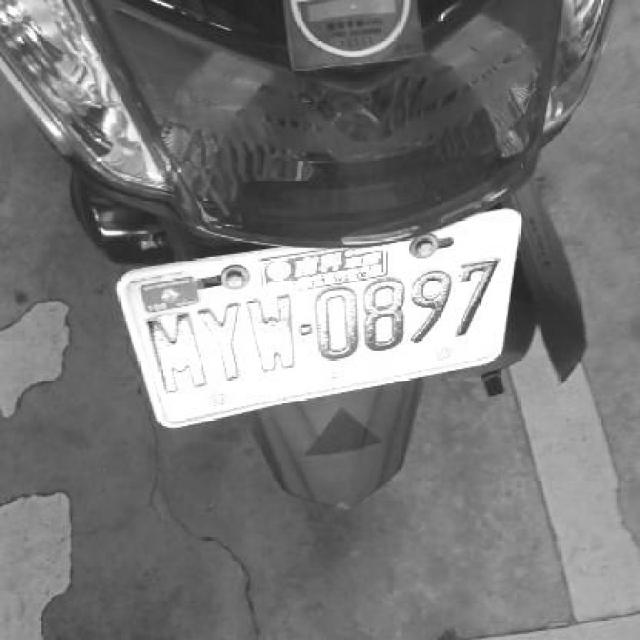-: (300, 322, 314, 336)
0: (314, 280, 360, 360)
7: (456, 254, 502, 338)
8: (363, 274, 406, 354)
9: (406, 265, 454, 343)
M: (140, 305, 209, 397)
W: (241, 290, 301, 373)
Y: (194, 297, 248, 382)
